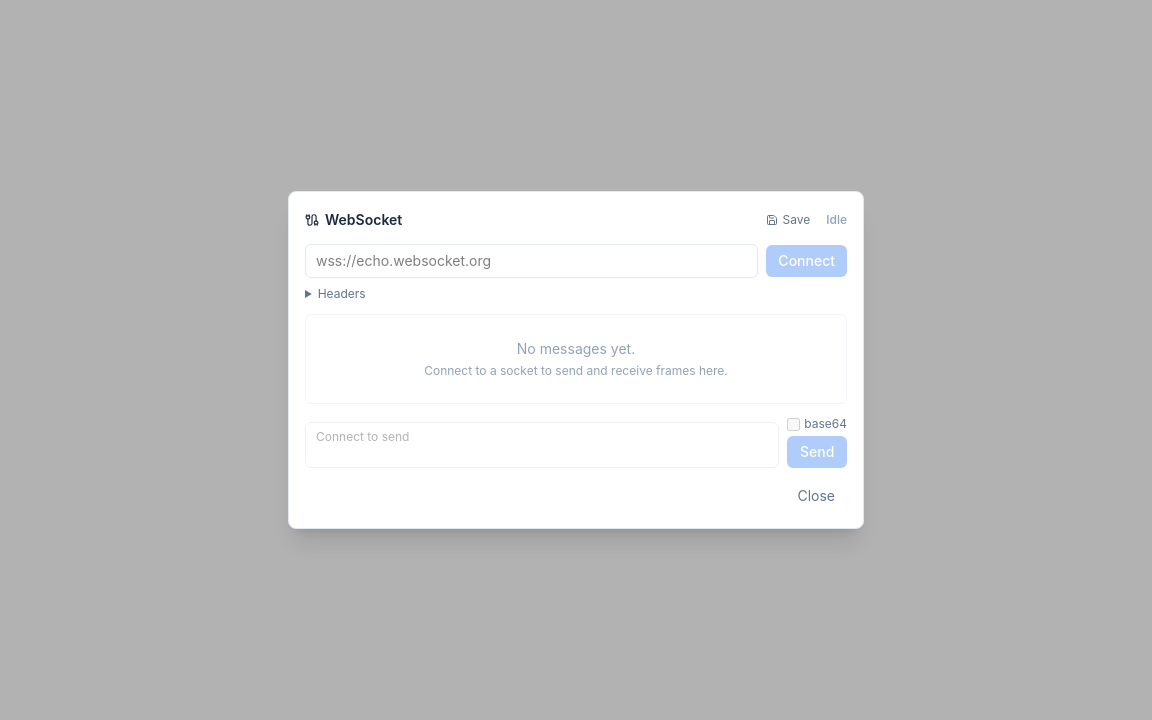
WsPanel › enables Connect only for a valid ws(s):// URL
Expected: the button "Connect" is disabled, x1=766 y1=245 x2=847 y2=277
Type "not a url" into the field with placeholder "wss://echo.websocket.org".
click(532, 261); type("not a url")  # box x1=305 y1=244 x2=758 y2=278
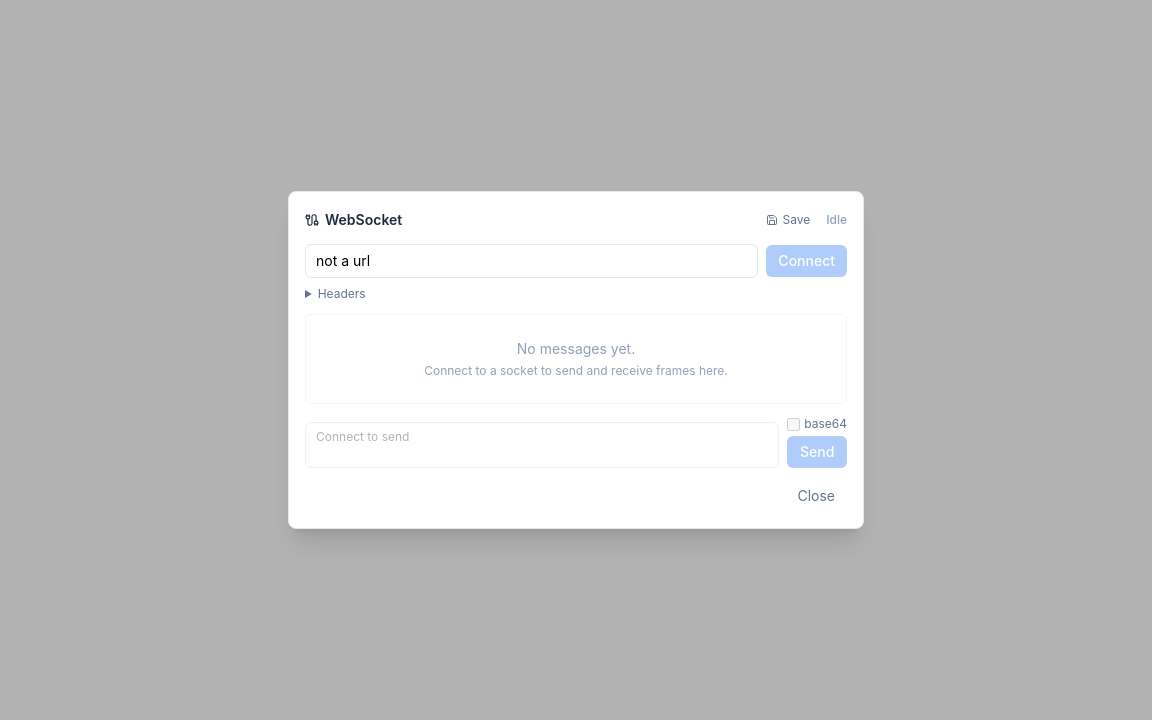
Expected: the button "Connect" is disabled, x1=766 y1=245 x2=847 y2=277
Replace the text in the field with placeholder "wss://echo.websocket.org" with "https://example.com/socket" at (532, 261), box x1=305 y1=244 x2=758 y2=278
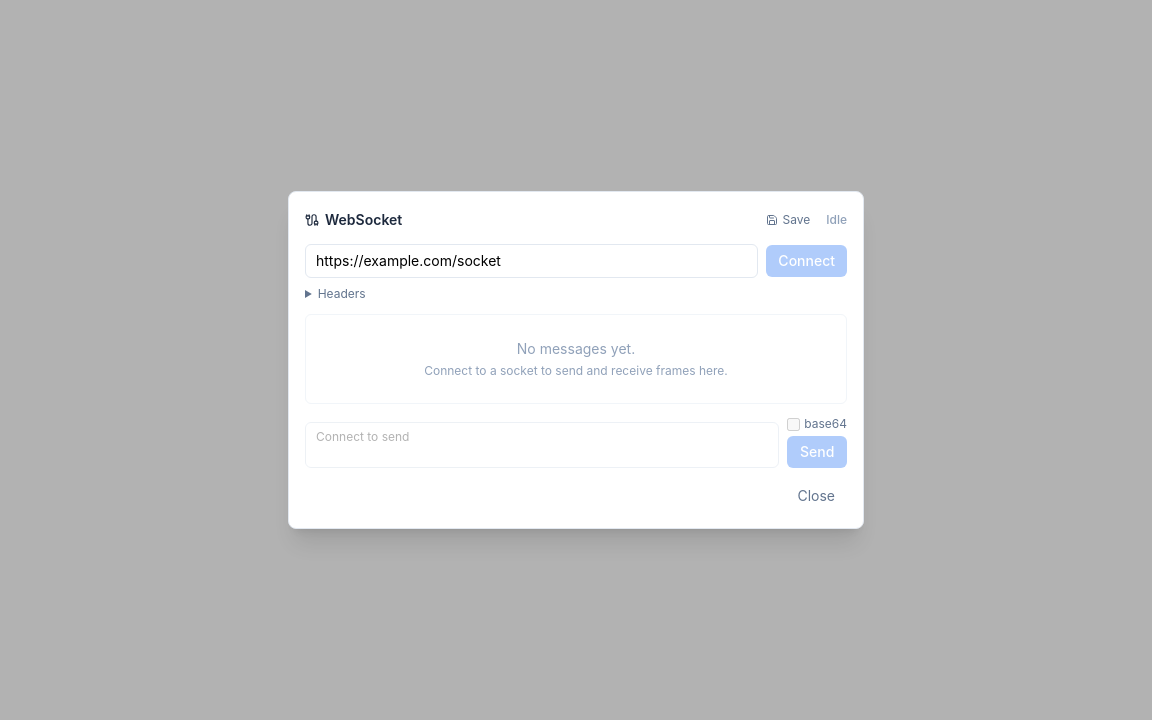
Expected: the button "Connect" is disabled, x1=766 y1=245 x2=847 y2=277
Replace the text in the field with placeholder "wss://echo.websocket.org" with "wss://echo.websocket.org" at (532, 261), box x1=305 y1=244 x2=758 y2=278
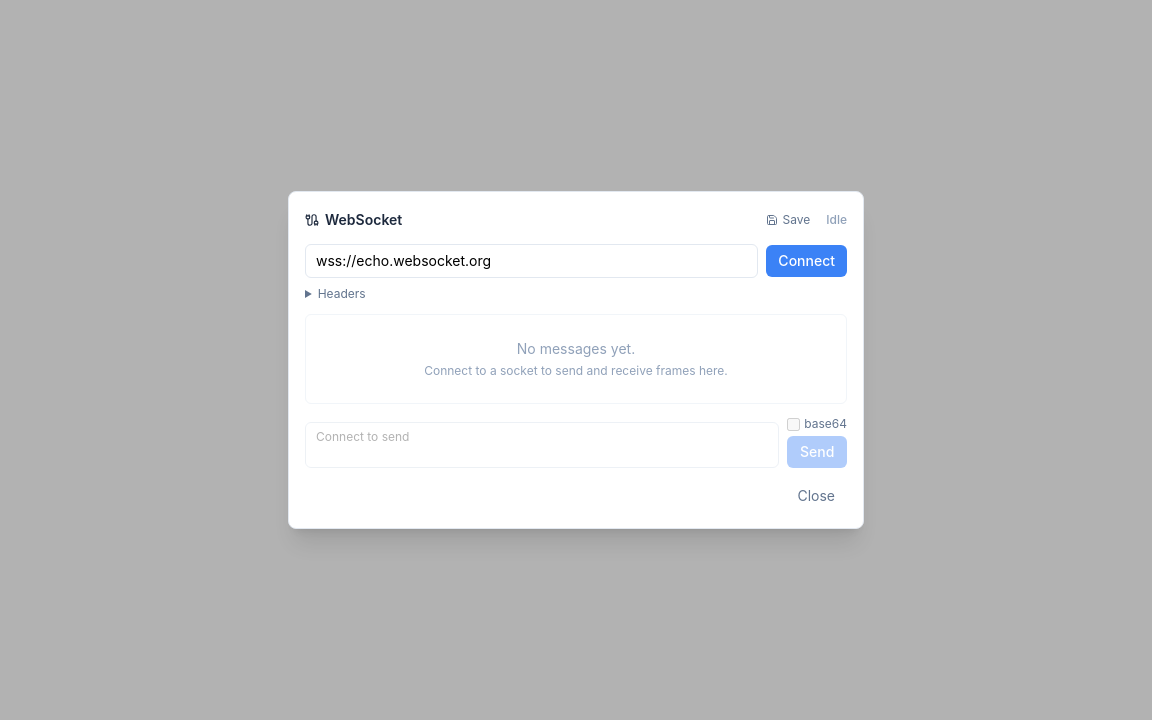
Result: the button "Connect" is enabled at x1=766 y1=245 x2=847 y2=277
